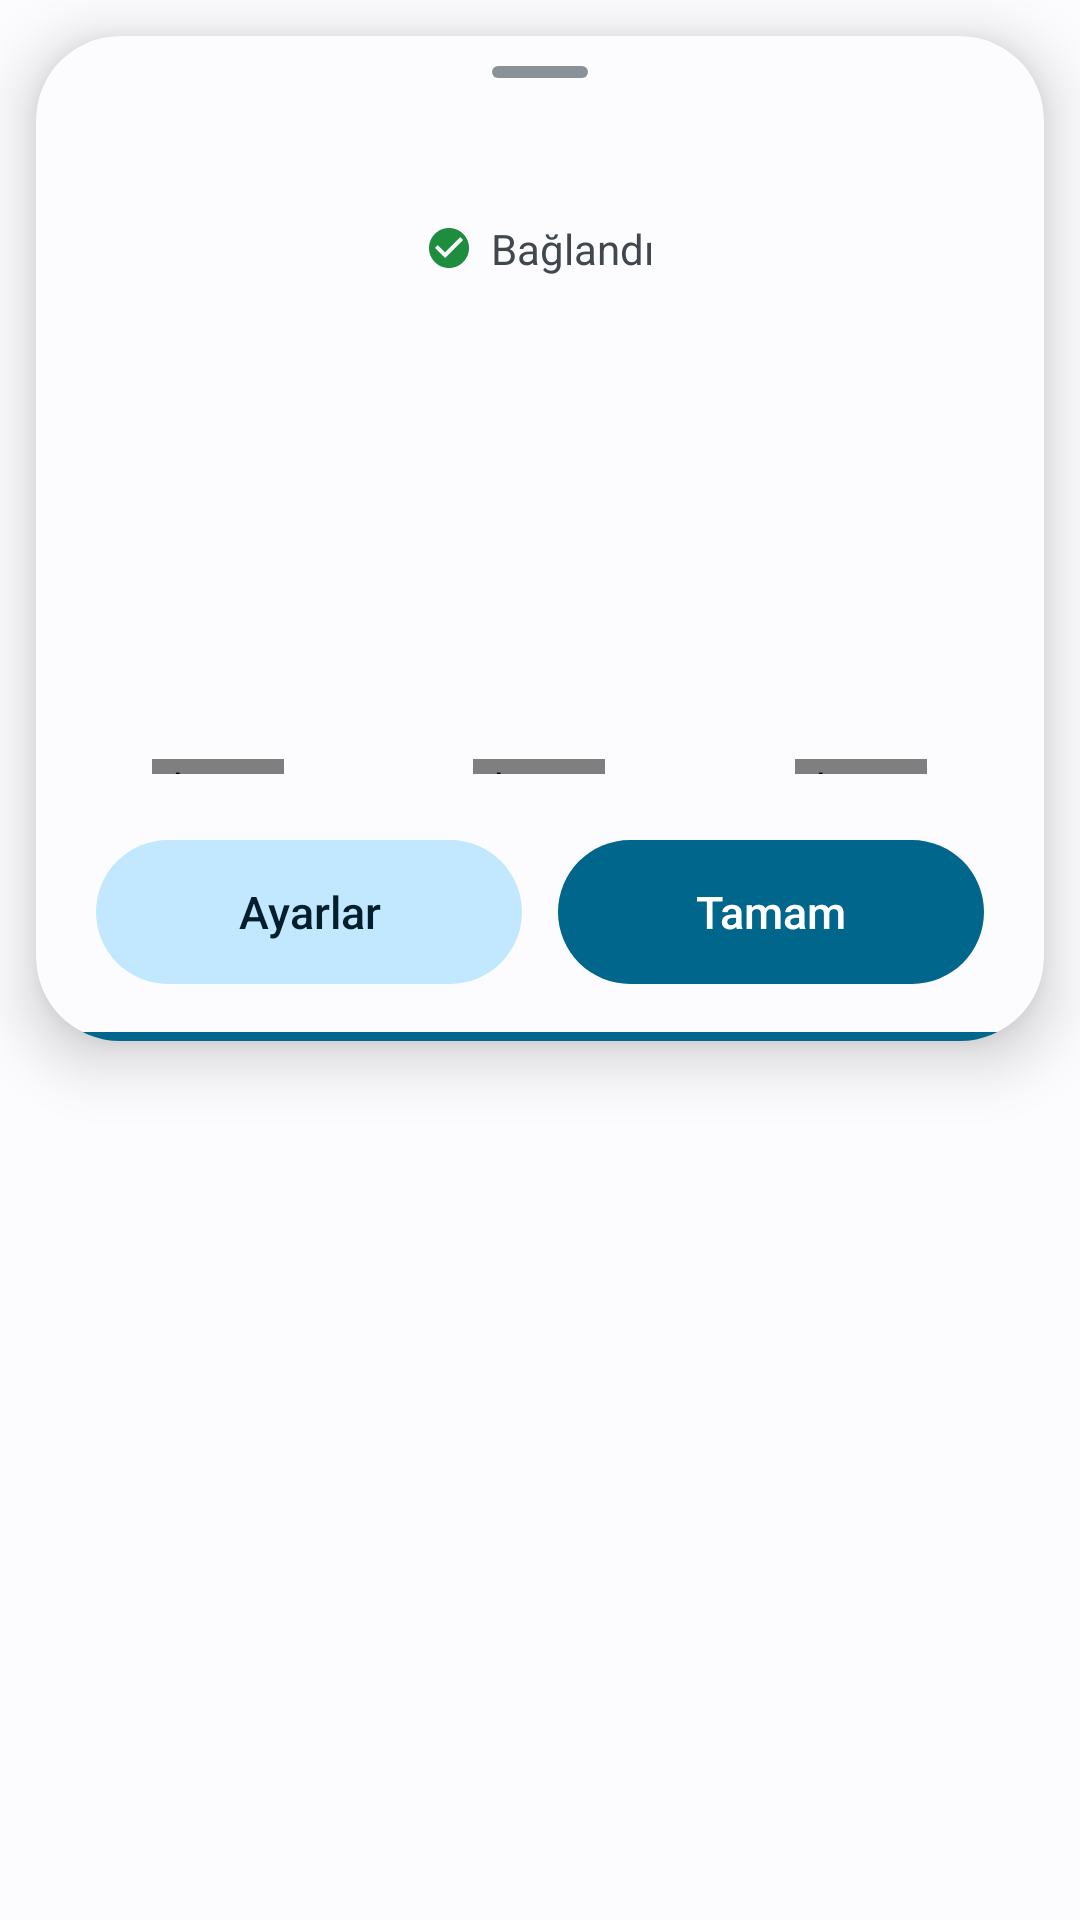

Where to tap for icons on this 1080w x 1920h app screen, as (x=x, y=y):
check circle: (x=449, y=248)
